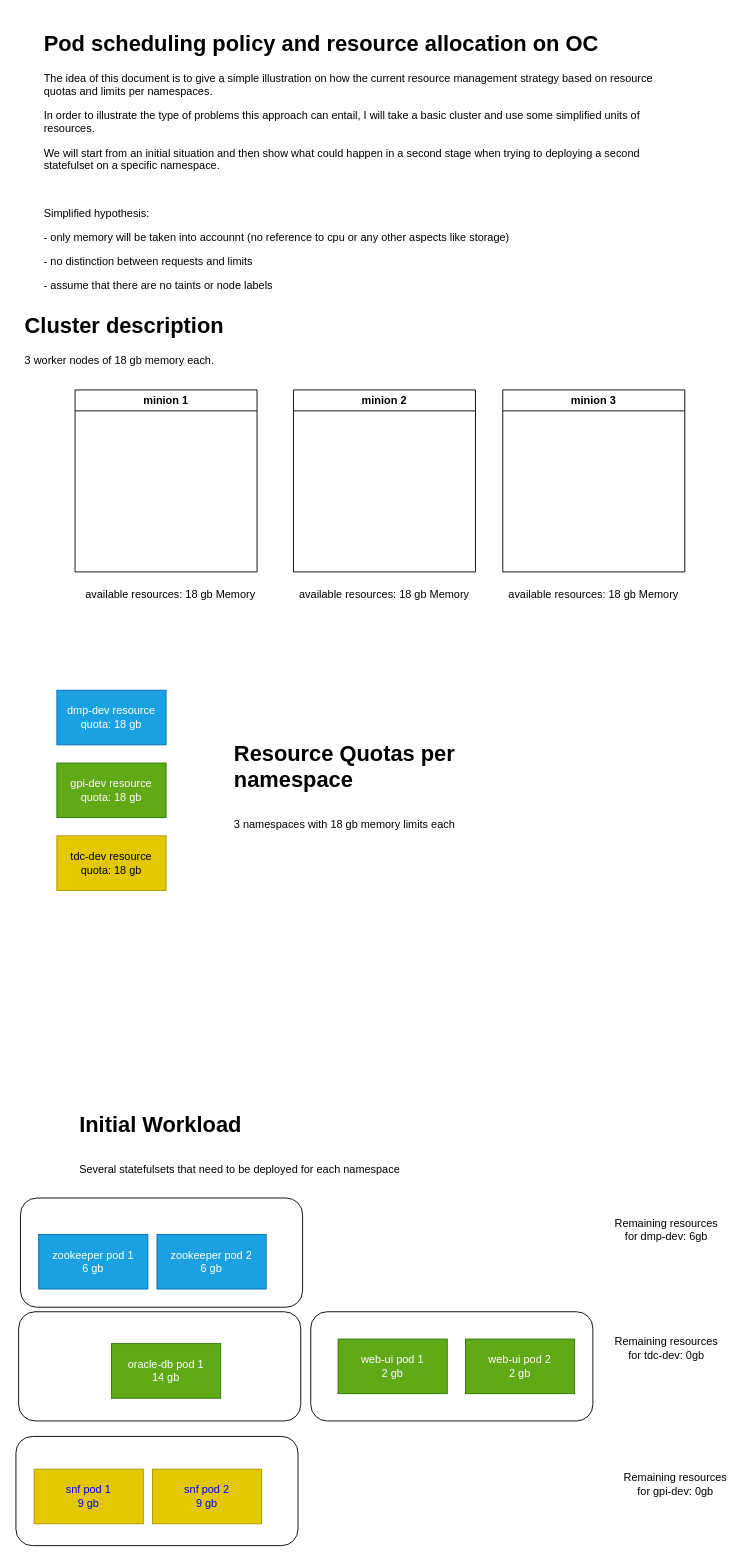
This 746x1562 diagram has some shape labels left out. The shapes that lost their labels are listed below. From the top down, each one's box as (x1, y1, x2, y2) in pixels, then its label:
(20, 1197, 303, 1307): Zookeeper stateful set (dmp-dev)
(18, 1311, 301, 1421): Oracle-db stateful set (tdc-dev)
(310, 1311, 593, 1421): Web-ui stateful set (tdc-dev)
(15, 1436, 298, 1546): SNF stateful set (gpi-dev)
